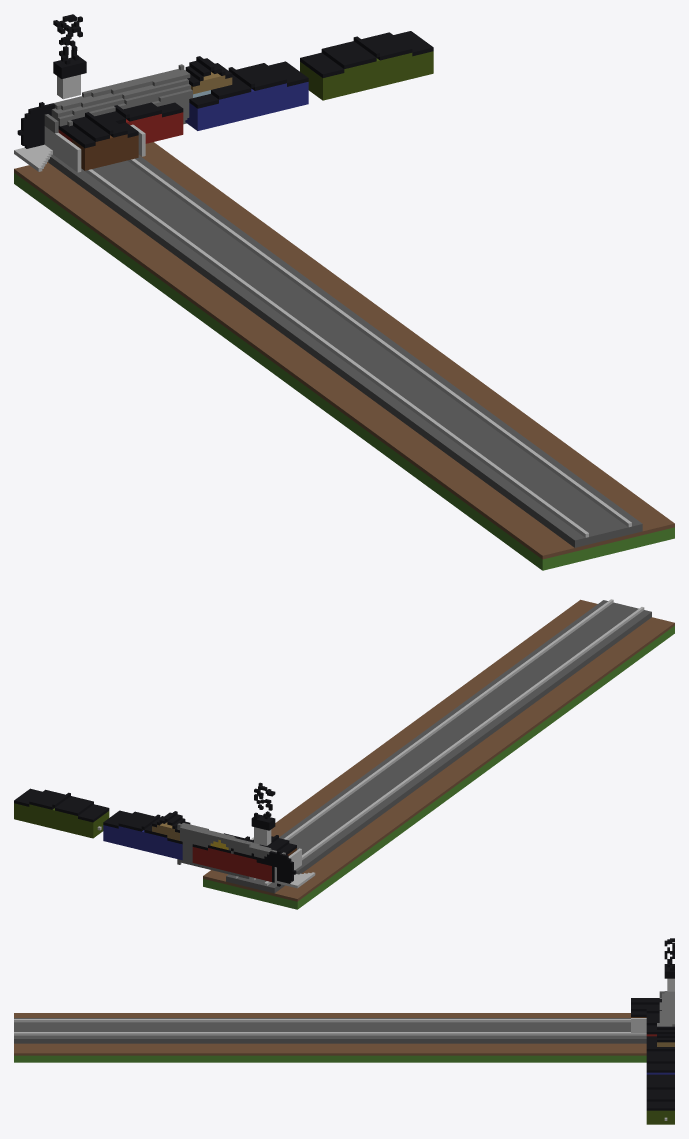
3 renders of one model, top to bottom at view 1: azimuth 30°, elevation 25°; view 2: azimuth 150°, elevation 25°; view 3: azimuth 270°, elevation 25°, orthographic. The views are drawn at different scales.
Size of the model in its own units: 112 by 42 by 256.
